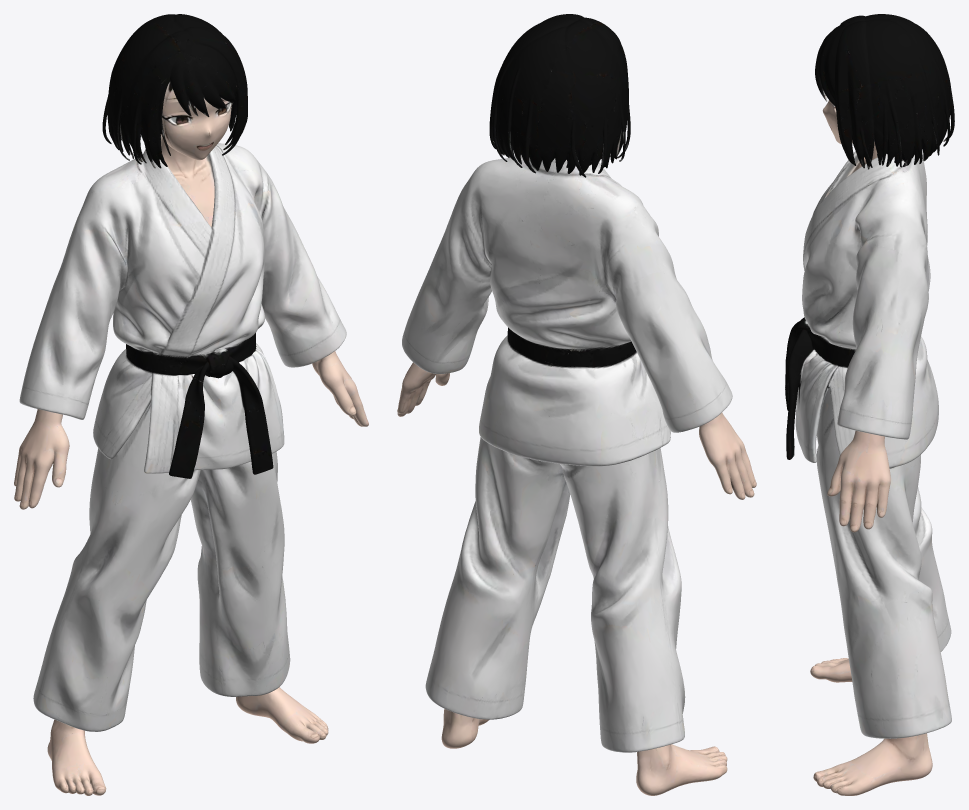
The model's file is riyelmodel.glb.
3 views of the same model, side by side, from view 1: azimuth 30°, elevation 25°; view 2: azimuth 150°, elevation 25°; view 3: azimuth 270°, elevation 25° (orthographic). The views are drawn at different scales.
Bounding box in the file's own units: 0.9424 × 1.9 × 0.4076.
1 material, 1 textured.
